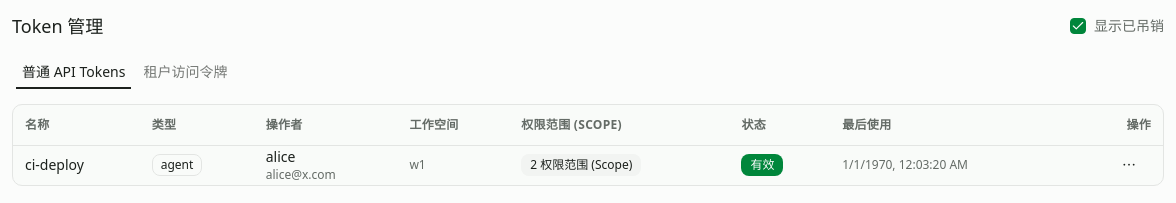
Test: AdminTokensPage › renders tenant access token rows from tenant tab
Step 1. Click the tab "租户访问令牌" → point(186, 72), box [136,60,234,84]
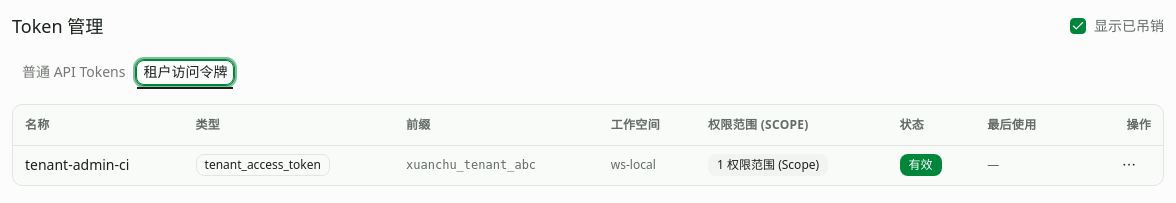
Now the text "tenant-admin-ci" is shown, box [13,145,184,185]
